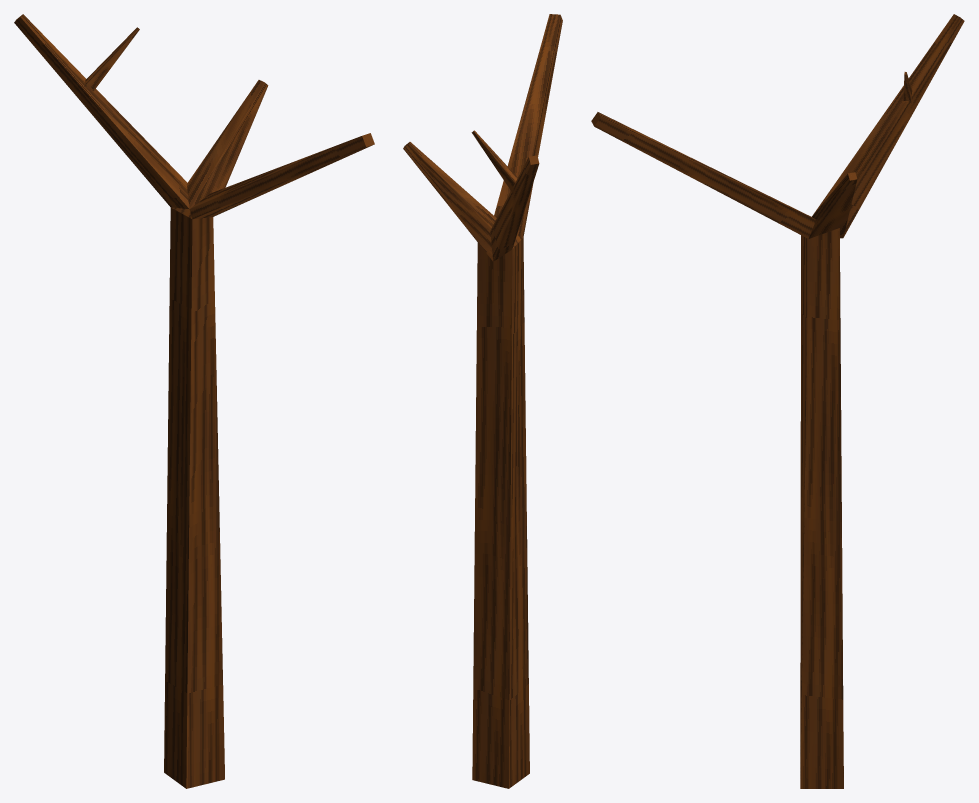
Rendered from snowmanBranch.fbx.
3 views of the same model, side by side, from view 1: azimuth 30°, elevation 25°; view 2: azimuth 150°, elevation 25°; view 3: azimuth 270°, elevation 25° (orthographic). The views are drawn at different scales.
Visible parts, largest first — view 1: Cube; view 2: Cube; view 3: Cube.
Boxes of the visible parts, x1,y1,x2,y2 form: Cube: (14,14,374,788); Cube: (403,14,562,788); Cube: (591,14,964,788).
Size of the model in its own units: 0.7215 by 2.55 by 1.21.
